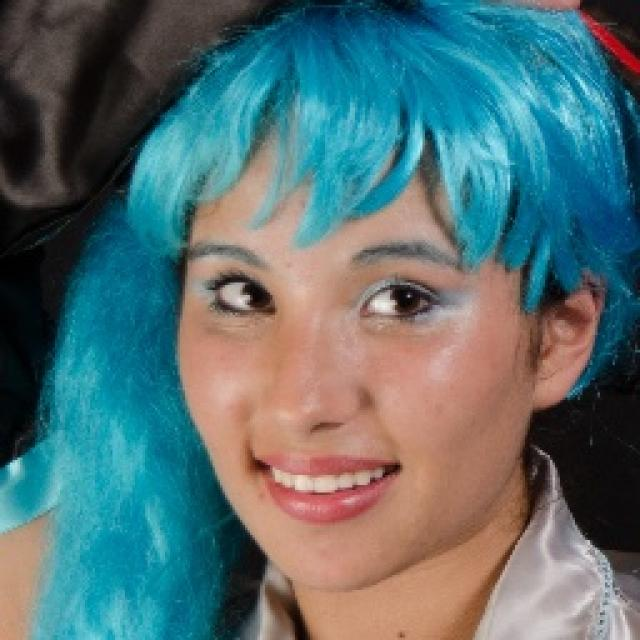earlobe: (526, 268, 605, 410)
